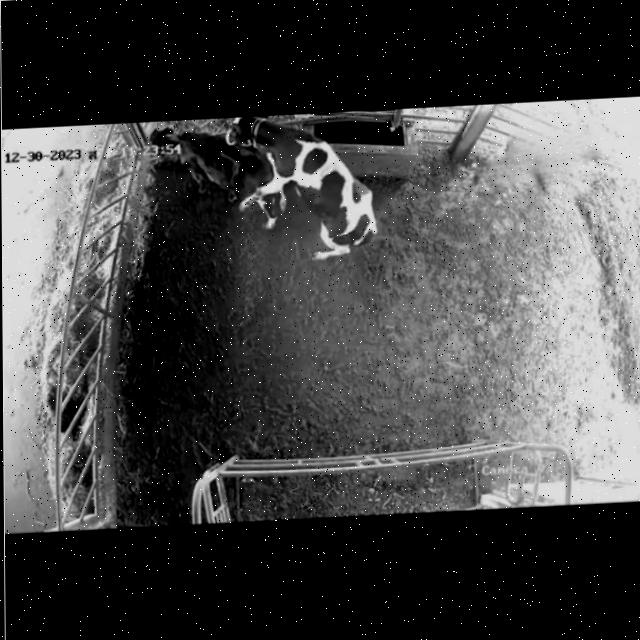ride: (220, 106, 399, 282)
stand: (145, 116, 276, 231)
